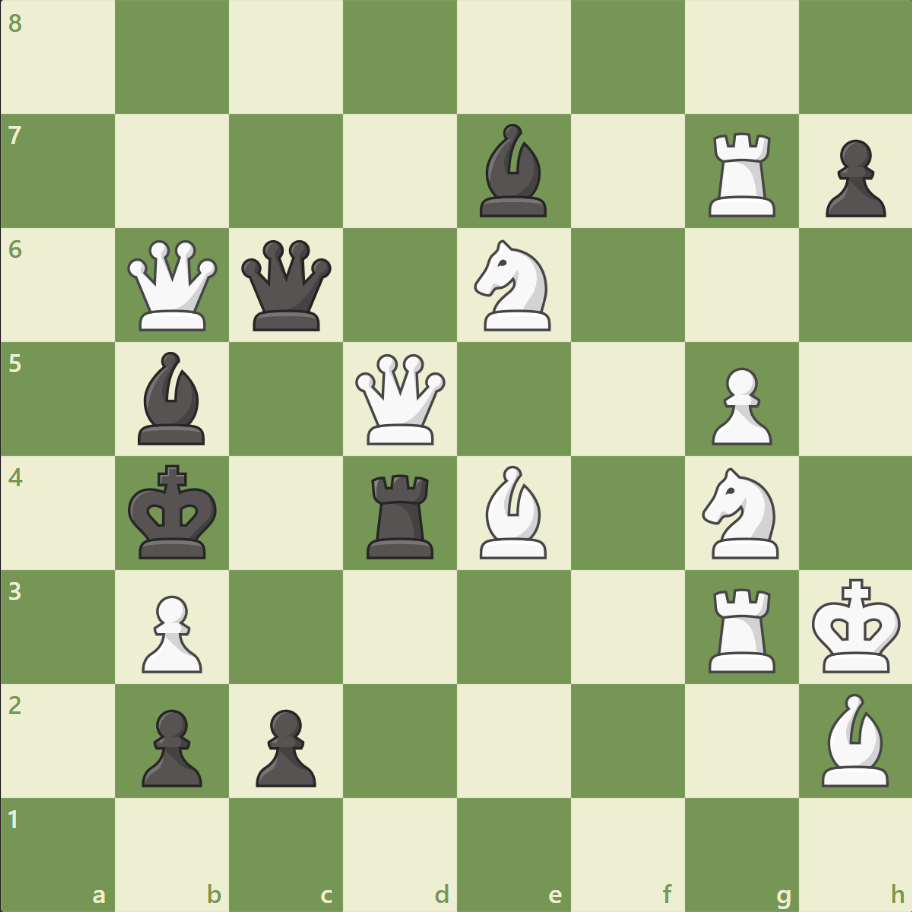B: (471, 460, 555, 563), (812, 687, 896, 790)
K: (806, 571, 906, 679)
N: (465, 234, 562, 337), (692, 461, 789, 564)
P: (701, 359, 776, 450), (133, 586, 208, 677)
Q: (351, 349, 450, 449), (124, 236, 223, 335)
R: (700, 125, 783, 222), (700, 579, 783, 676)
b: (471, 120, 555, 222), (131, 347, 215, 449)
k: (124, 458, 224, 566)
p: (133, 700, 208, 791), (247, 700, 322, 791), (815, 132, 889, 223)
q: (237, 236, 336, 335)
r: (360, 466, 442, 563)
